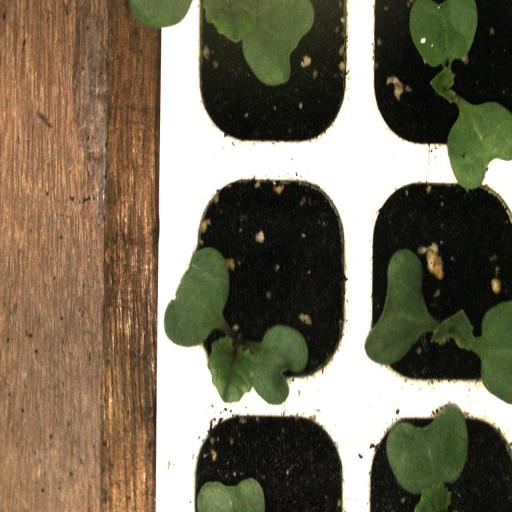seedling: (178, 160, 359, 402), (359, 158, 512, 403), (358, 2, 512, 168)
